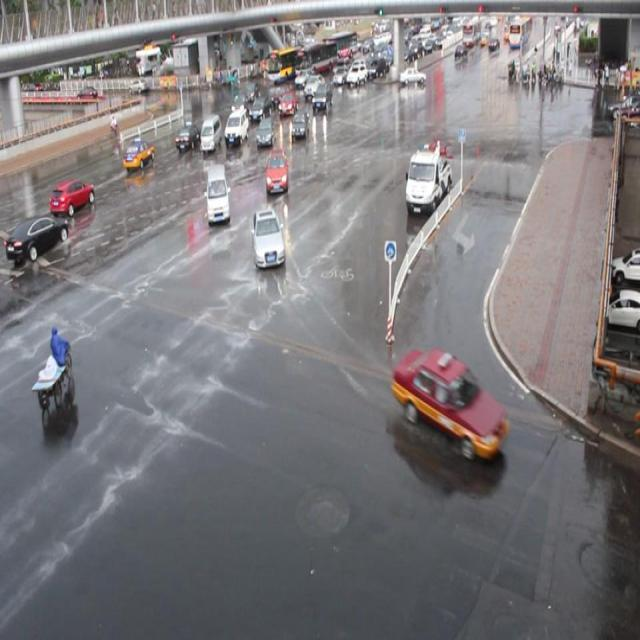bus: (404, 145, 452, 213)
car: (394, 347, 510, 459), (1, 213, 68, 259), (250, 207, 286, 267), (50, 177, 95, 214), (264, 147, 288, 192), (122, 136, 155, 168), (175, 120, 202, 148), (256, 117, 276, 146), (249, 95, 272, 120), (311, 83, 332, 109), (291, 109, 309, 138), (303, 74, 325, 97), (278, 90, 298, 115), (232, 91, 250, 115), (242, 79, 260, 102), (272, 84, 290, 104)
truck: (204, 163, 231, 222), (224, 107, 249, 144), (200, 114, 221, 150)
